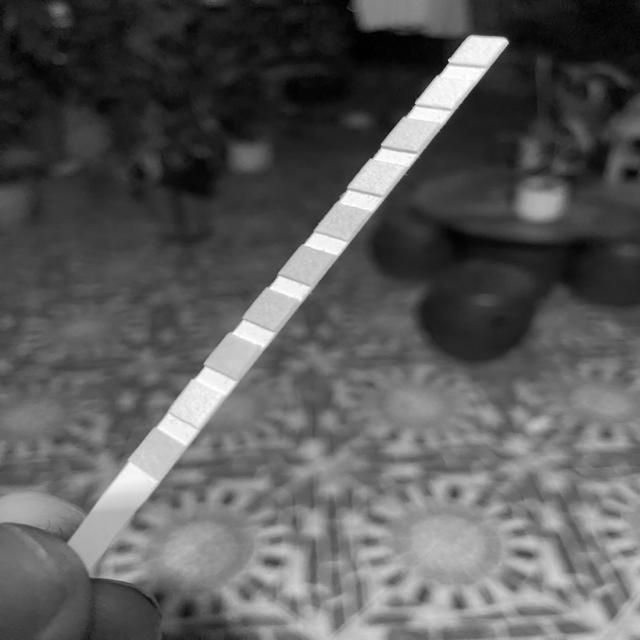Bilirubin: (182, 392, 209, 417)
Blood: (293, 254, 320, 275)
Glucose: (142, 442, 172, 466)
Ketone: (219, 344, 246, 371)
Leukocytes: (466, 40, 490, 61)
Nitrite: (431, 83, 455, 105)
Protein: (364, 164, 391, 187)
SpGravity: (257, 296, 283, 321)
Urobilinogen: (396, 125, 421, 147)
background: (0, 0, 640, 640)
pH: (329, 209, 354, 234)
strip: (67, 38, 511, 556)
